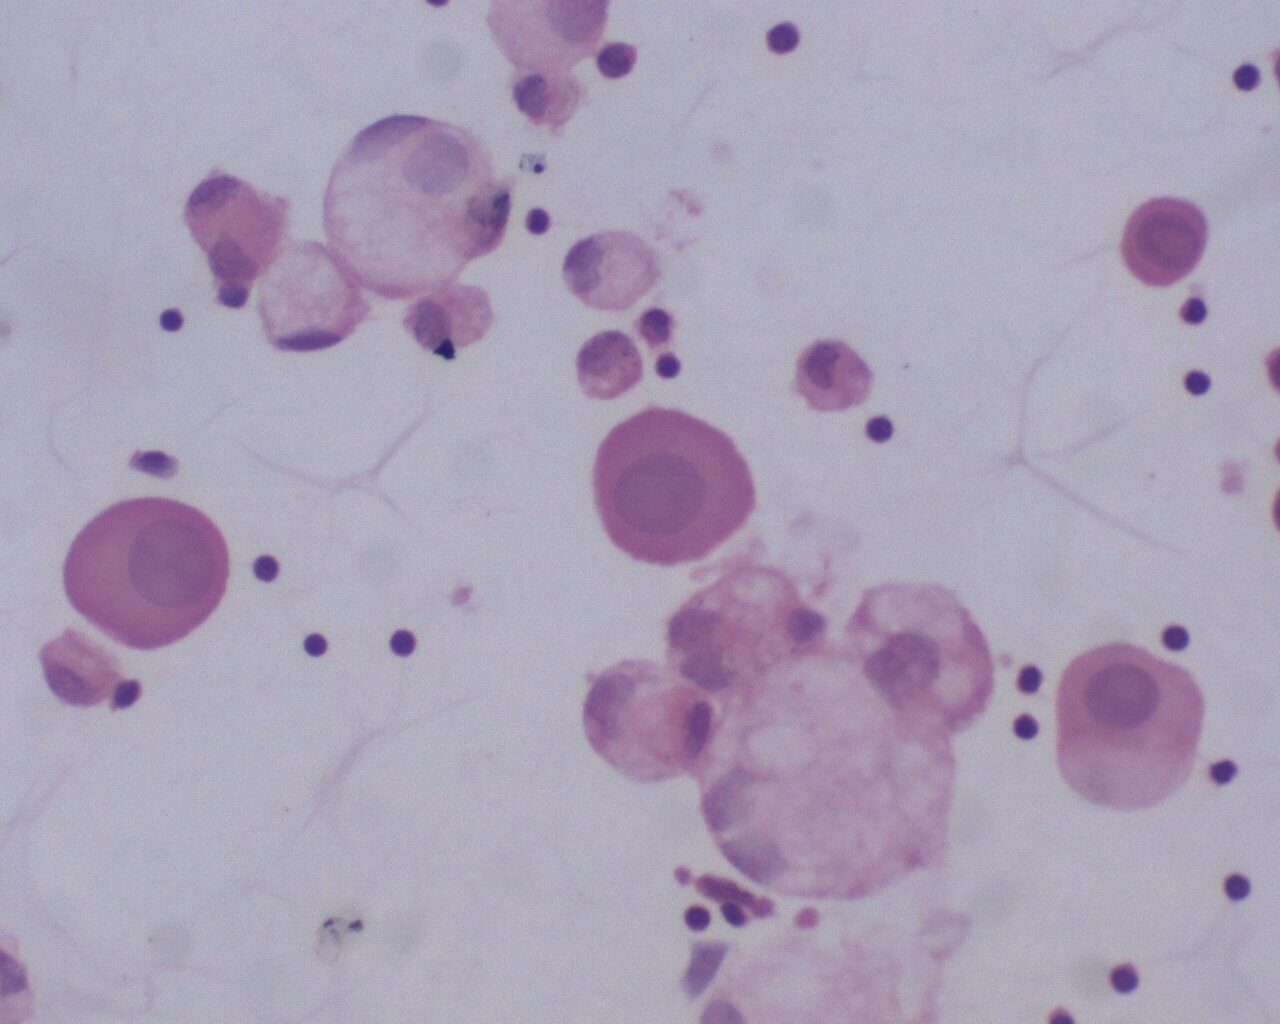ab: (59, 491, 234, 659), (591, 399, 763, 571), (856, 567, 993, 744), (1119, 186, 1212, 288)
histo: (254, 241, 374, 353)
lymph: (1156, 613, 1196, 656), (296, 623, 335, 666), (382, 623, 423, 664), (862, 408, 902, 449), (764, 18, 804, 56), (1184, 367, 1220, 408), (1220, 868, 1257, 907), (154, 304, 190, 339)
